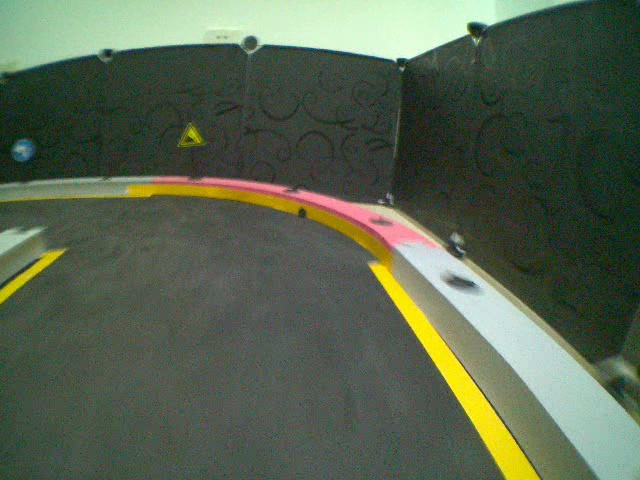fast: (177, 122, 205, 151)
turn: (10, 137, 32, 164)
